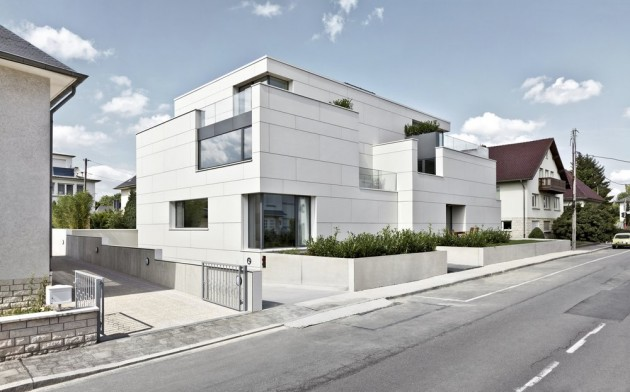Building House: (141, 70, 497, 291), (480, 131, 574, 241), (54, 146, 103, 230)
